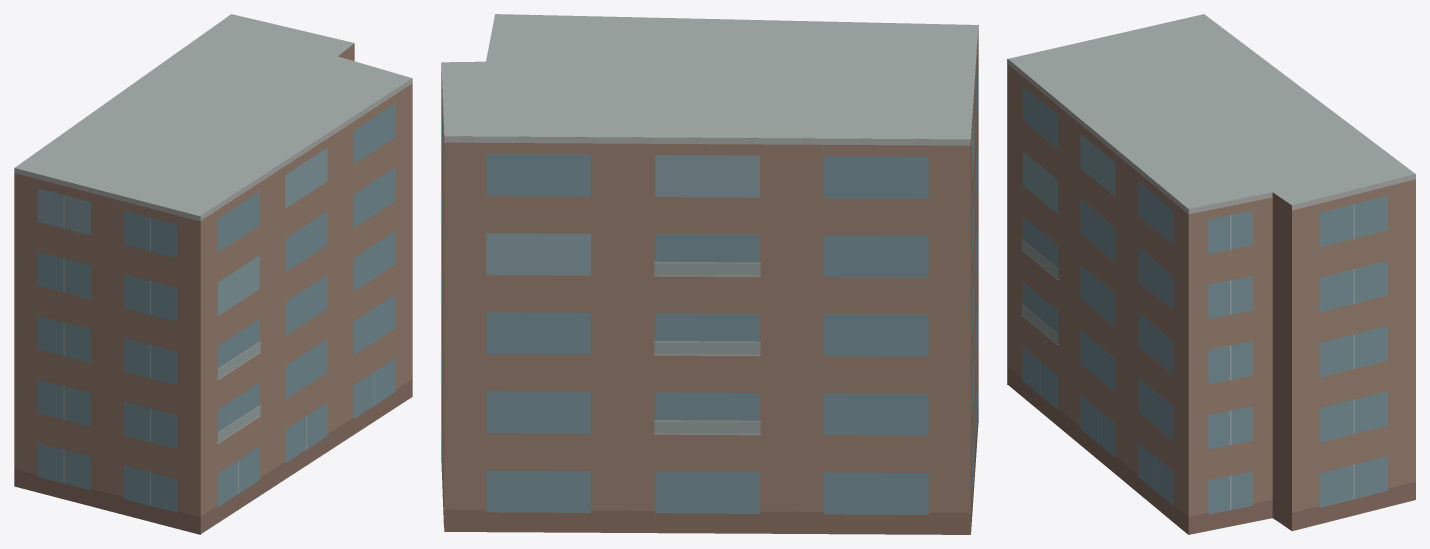
The model's file is survey-upis-32722787.glb.
3 renders of one model, left to right at view 1: azimuth 30°, elevation 25°; view 2: azimuth 150°, elevation 25°; view 3: azimuth 270°, elevation 25°, orthographic. The views are drawn at different scales.
Parts seen in each view (by area): view 1: survey-upis-32722787.tmp; view 2: survey-upis-32722787.tmp; view 3: survey-upis-32722787.tmp.
Part boxes in pixels (x1=…): survey-upis-32722787.tmp: x1=14, y1=14, x2=412, y2=534; survey-upis-32722787.tmp: x1=441, y1=14, x2=978, y2=534; survey-upis-32722787.tmp: x1=1007, y1=14, x2=1415, y2=534.
Size of the model in its own units: 19.59 by 15.25 by 17.35.
